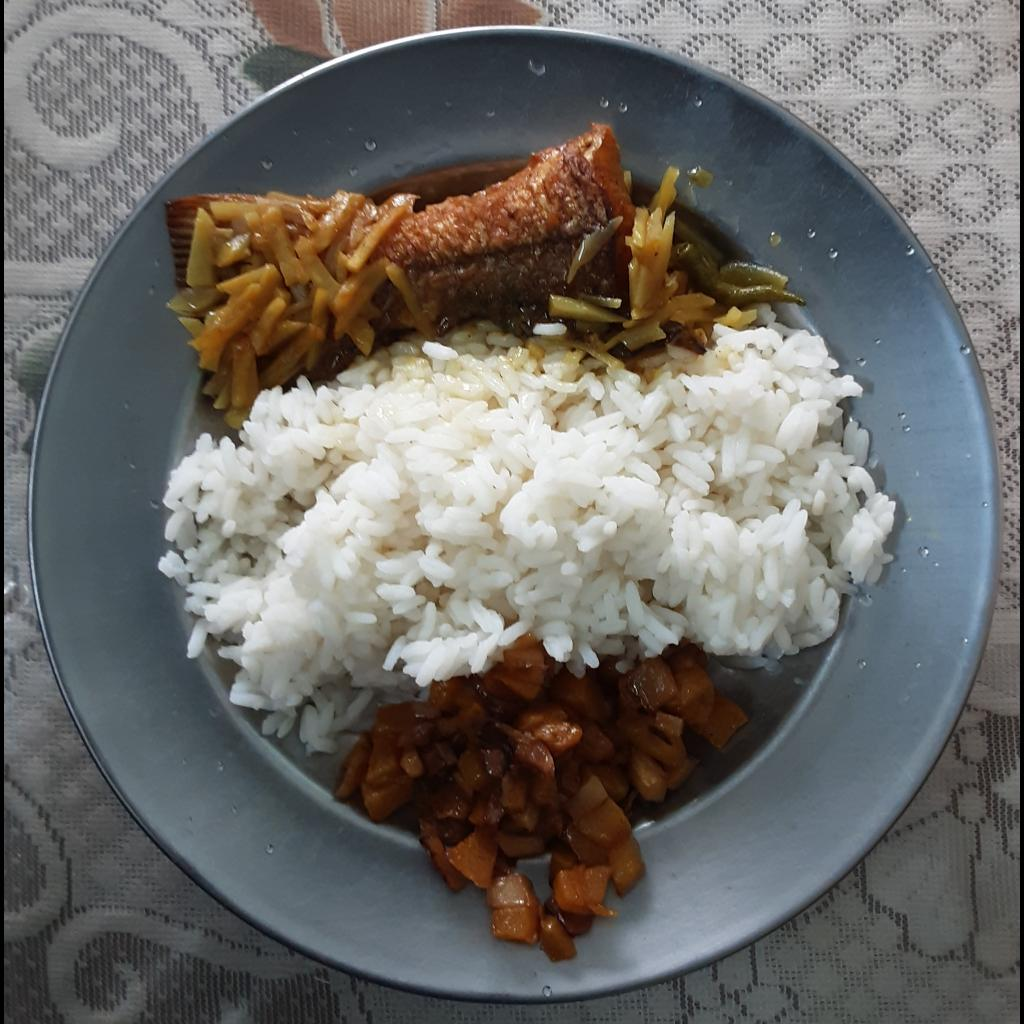fish: (385, 120, 634, 326)
kumra-vaji: (328, 635, 747, 961)
potato: (169, 187, 434, 438), (546, 162, 799, 364)
rice: (161, 312, 895, 762)
